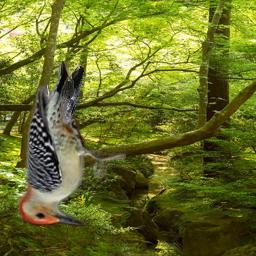Crow: (45, 65, 84, 125)
Woodpecker: (19, 61, 126, 226)
